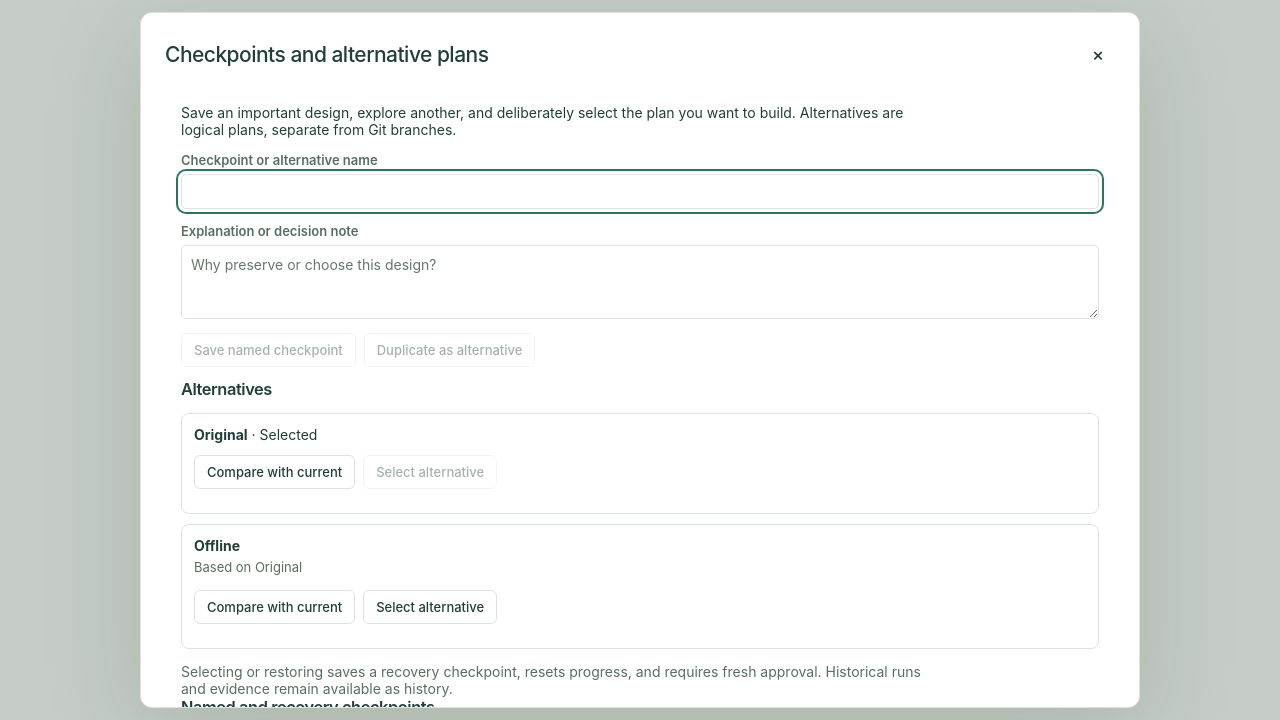
Test: shows readable changed fields under the approval semantics and keeps historical references separate
Check: the text "Offline" is shown, box [194,537,240,554]
Click the button "Compare with current" below "· Selected". click: (275, 472)
box: [194,455,355,489]
(page scrolled)
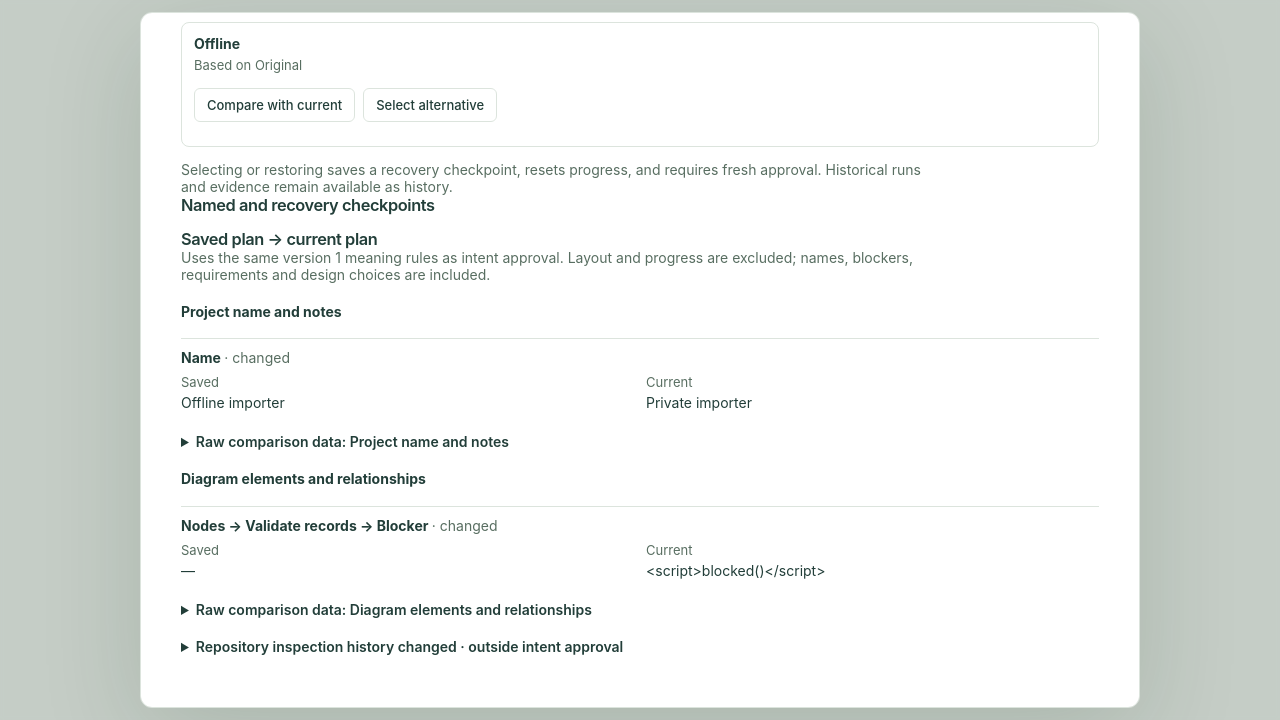
Check: the text "Private importer" is shown, box [646,394,752,411]
Check: the heading "Nodes → Validate records → Blocker" is shown, box [181,517,428,534]
Check: the heading "Repository inspection history changed · outside intent approval" is shown, box [196,638,623,655]
